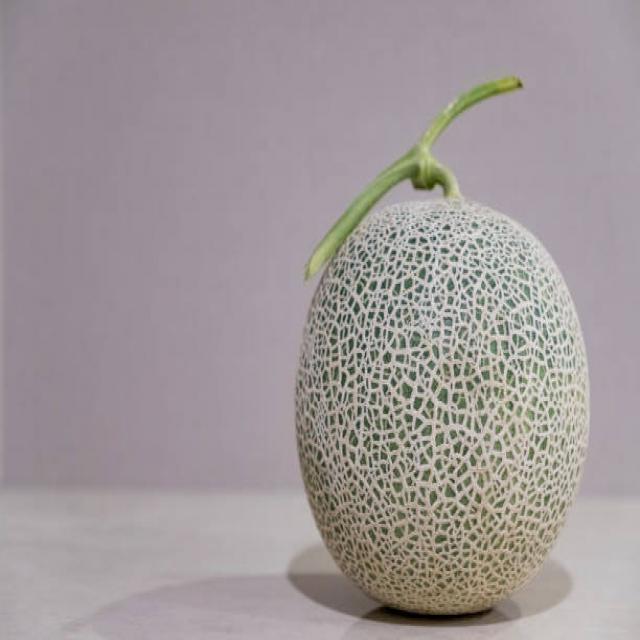Hami Melon: (293, 196, 595, 615)
